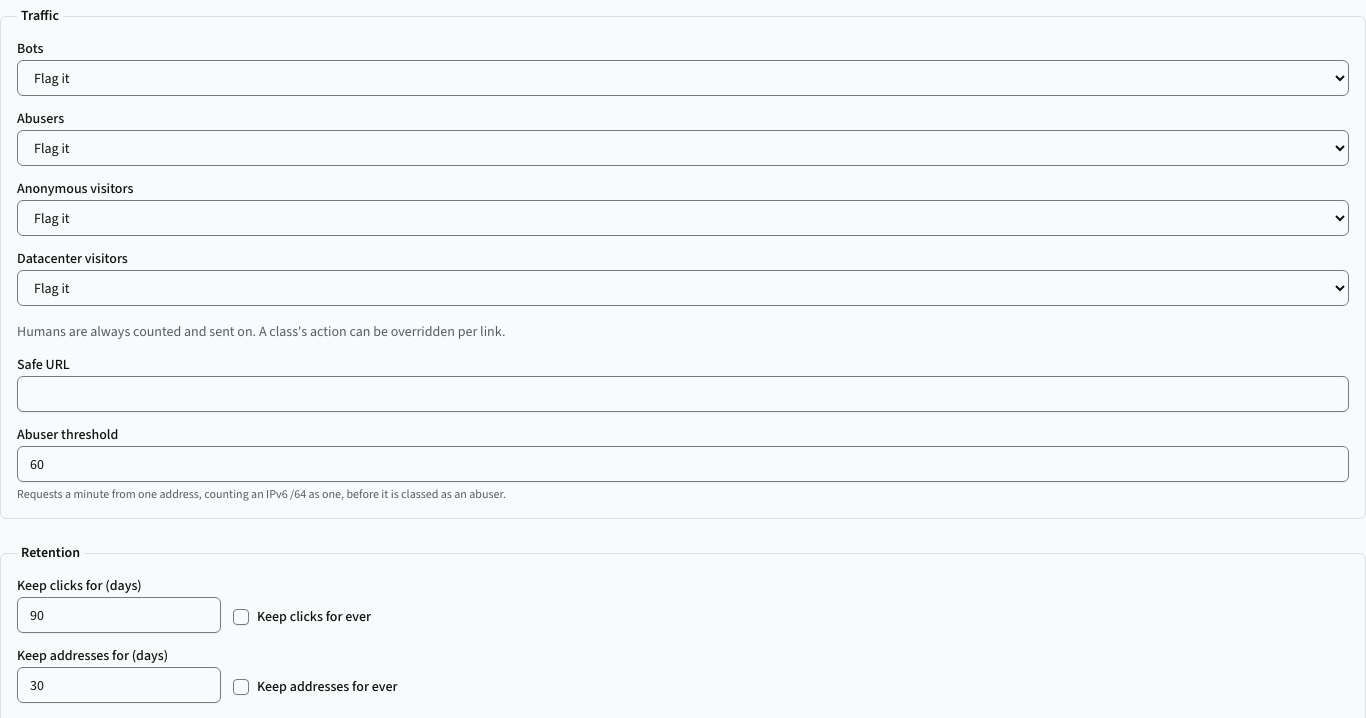
Test: the settings screen › confirms against what was last saved, not what first loaded
Replace the text in the field labelled "Keep clicks for (days)" with "180". click: {"x": 119, "y": 615}
box: [17, 597, 221, 633]
(page scrolled)
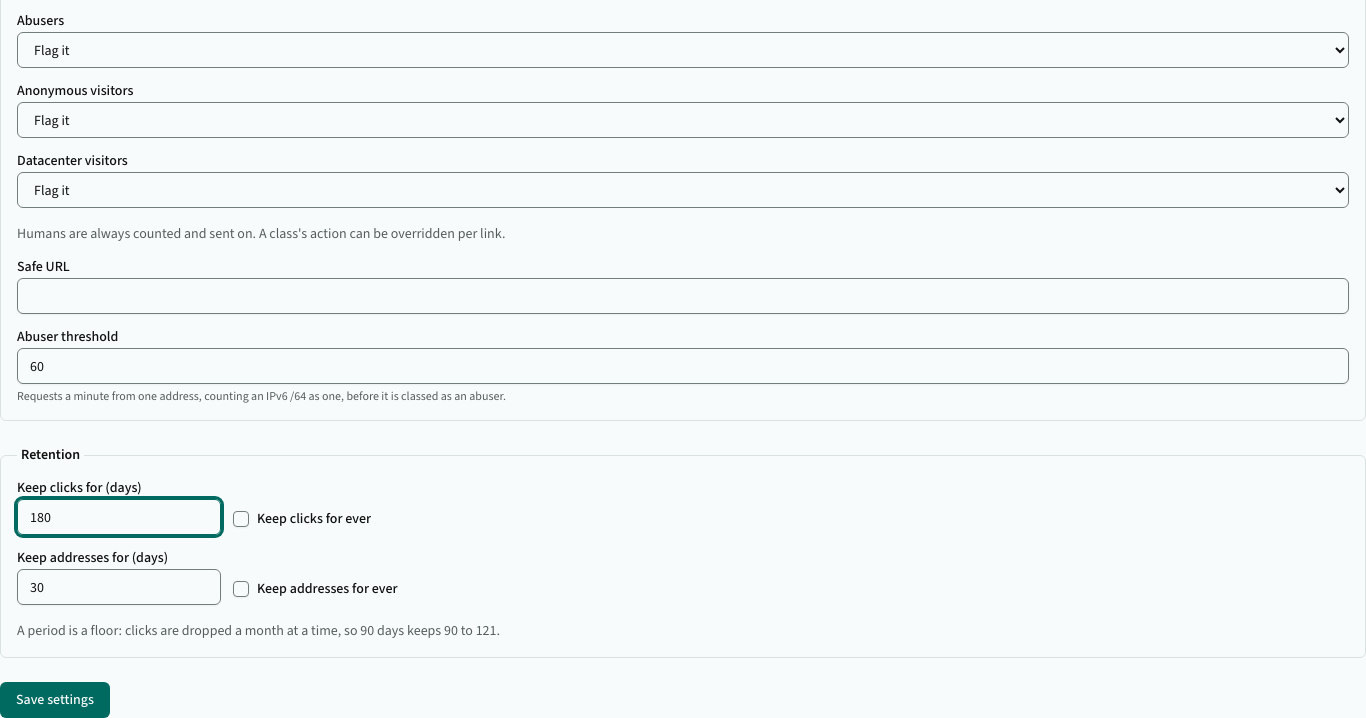
Click the button "Save settings". click: {"x": 55, "y": 700}
box: [0, 682, 110, 717]
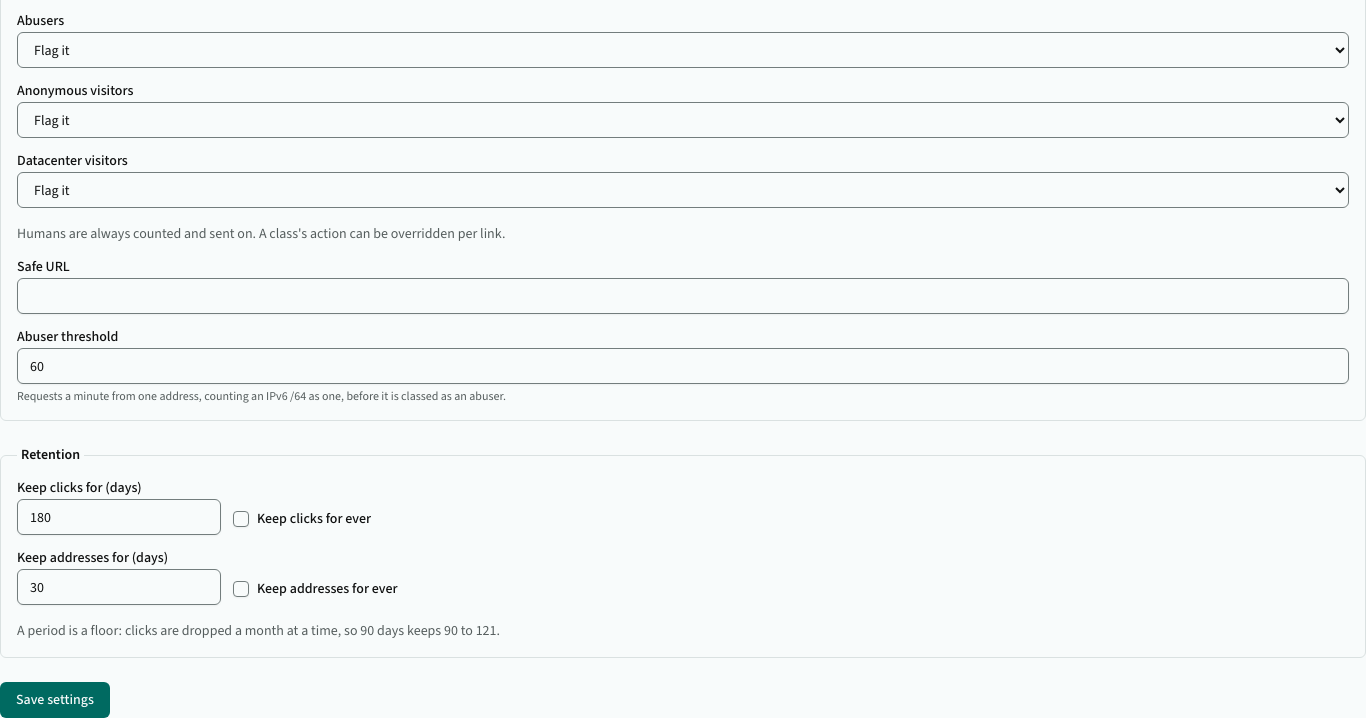
Replace the text in the field labelled "Keep clicks for (days)" with "120". click: {"x": 119, "y": 517}
box: [17, 499, 221, 535]
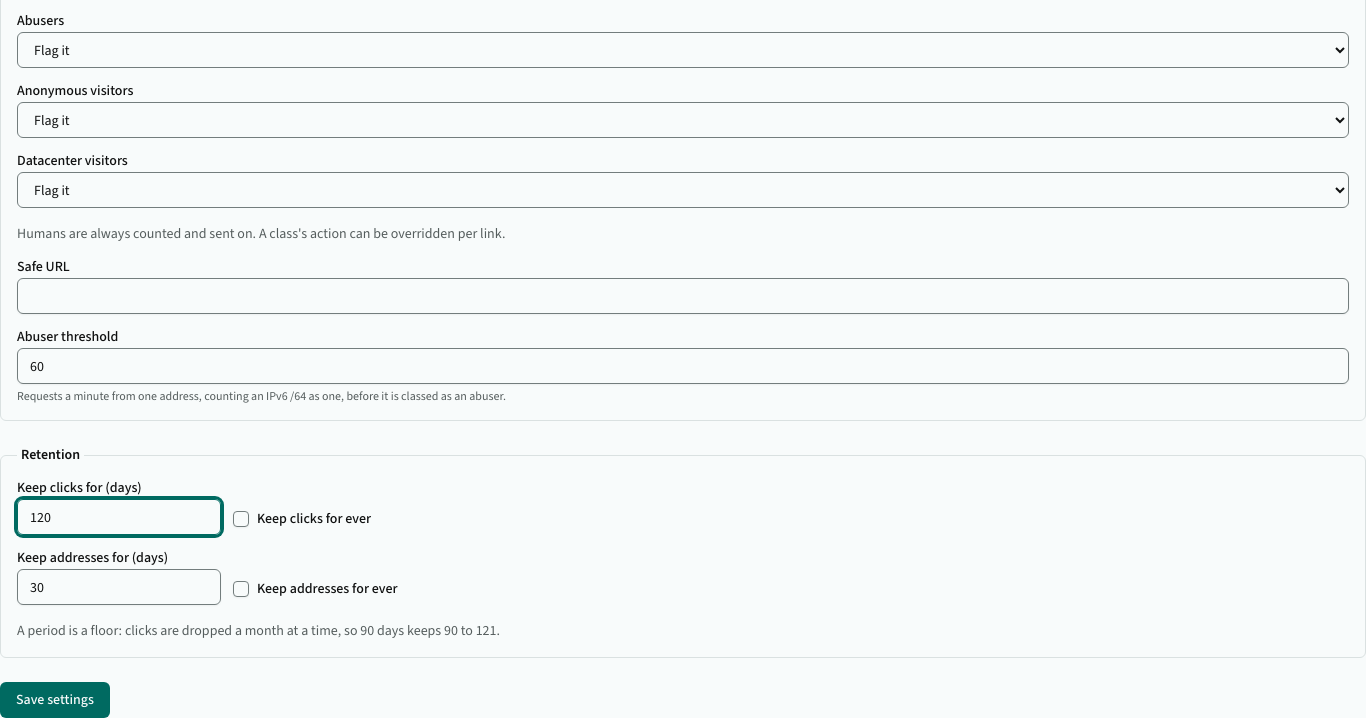
Click the button "Save settings". click: {"x": 55, "y": 700}
box: [0, 682, 110, 717]
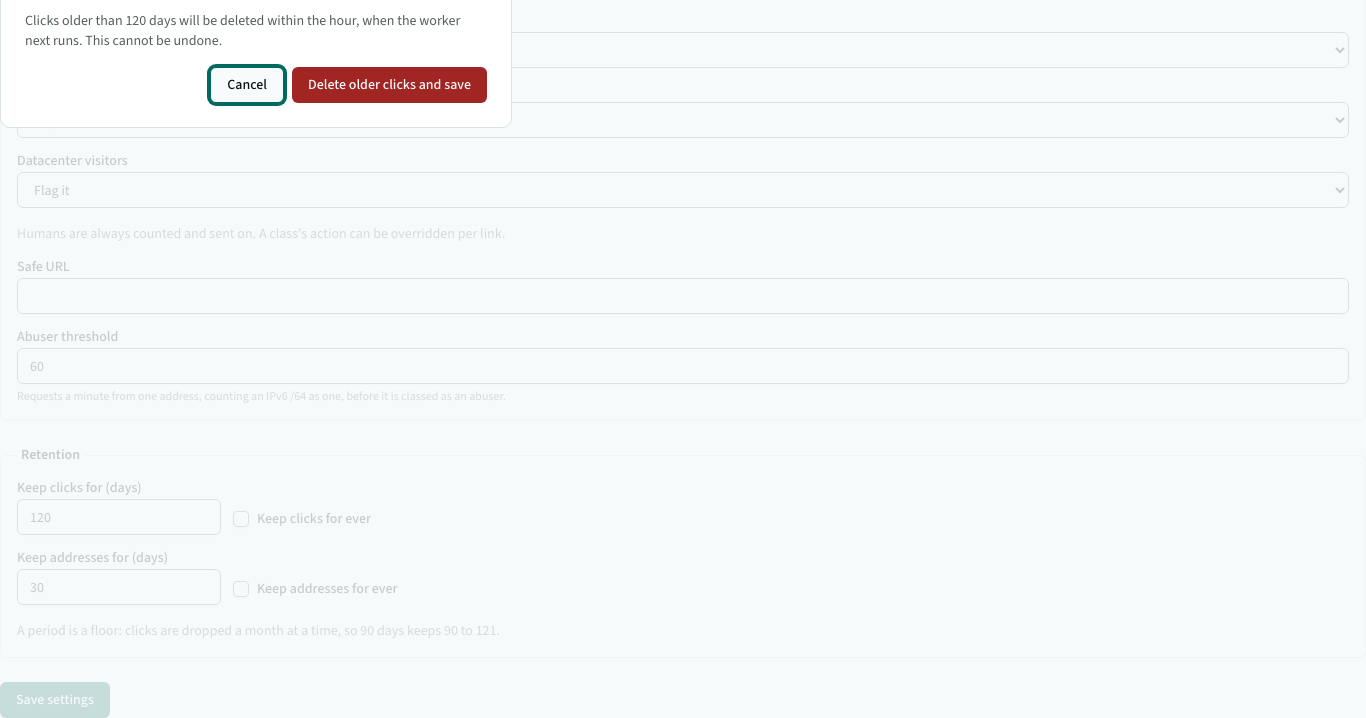
Check: the dialog shows "Clicks older than 120 days will be deleted within the hour", box [25, 11, 460, 50]
